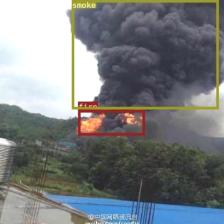fire: (78, 110, 144, 135)
smoke: (71, 0, 218, 109)
